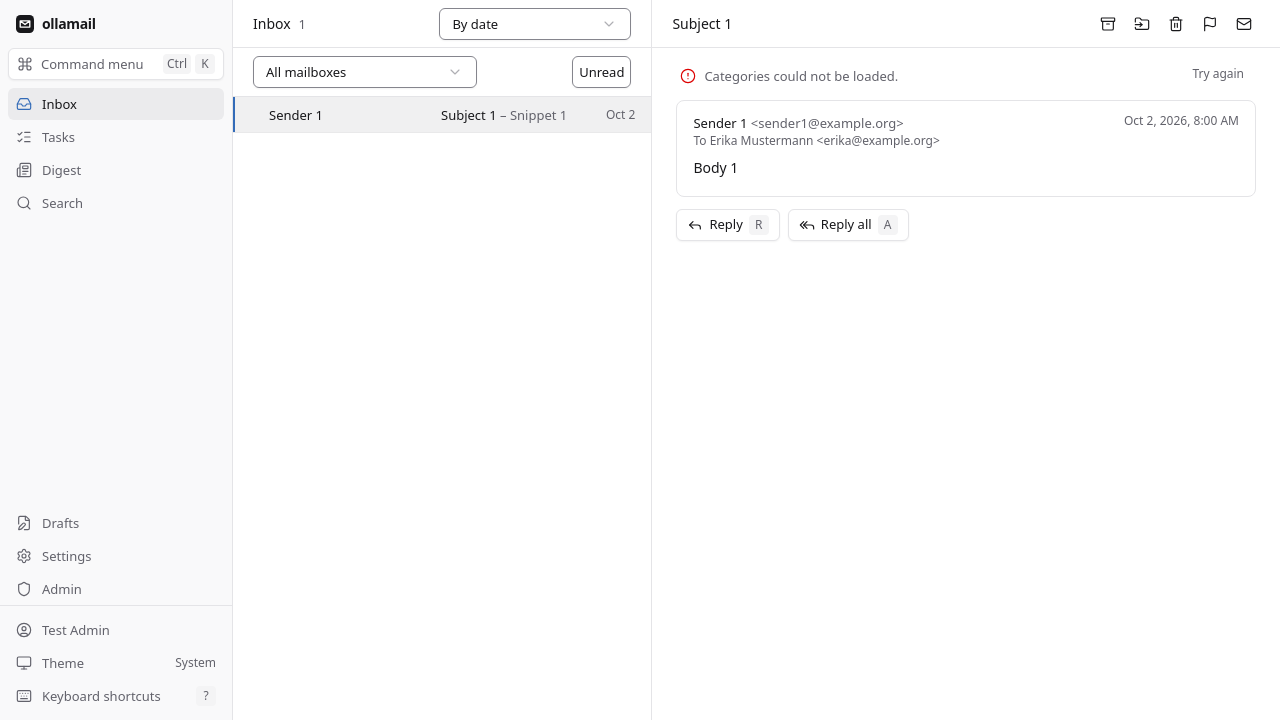
Test: triage in the inbox › loads failing categories a limited number of times and offers a retry (#86)
Check: the heading "Inbox" is shown, box [253,14,291,34]
Check: the text "Subject 1" is shown, box [441,106,497,124]
Click the button "Try again".
click(1218, 74)  # box [1184,62,1252,86]
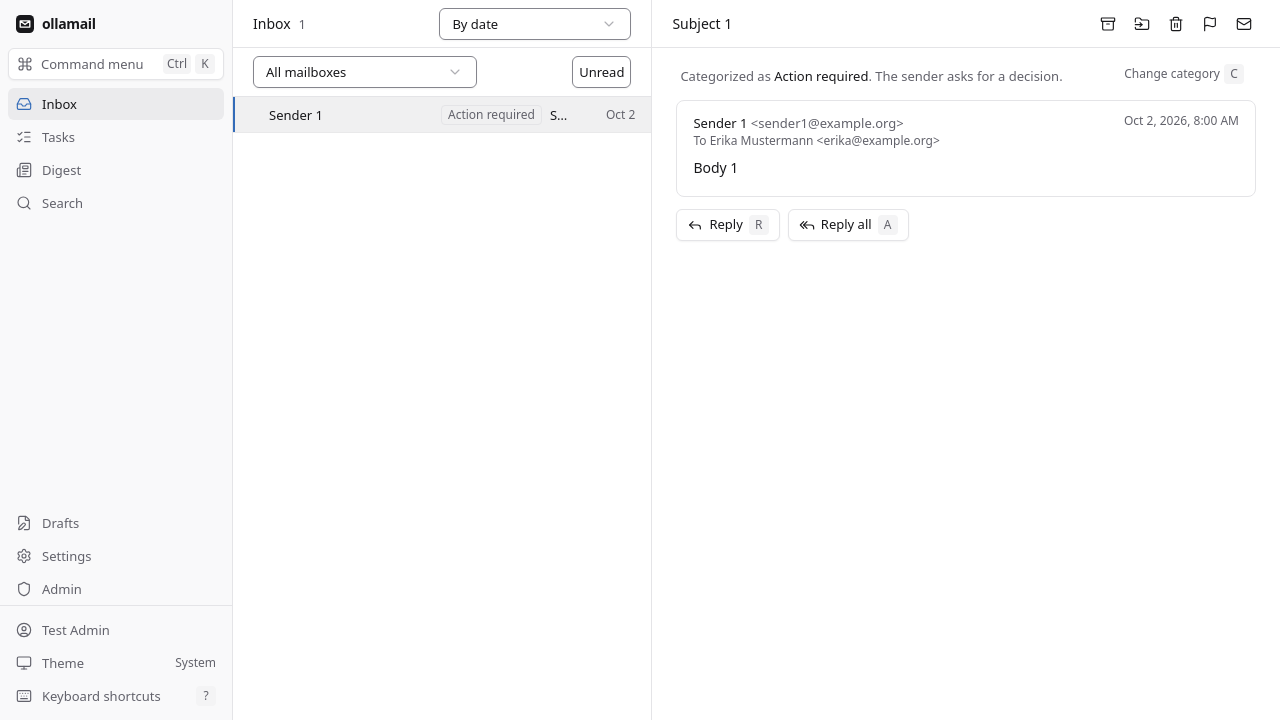
Check: the element with test id "triage-reason" shows "Categorized as Action required. The sender asks for a decision.", box [676,64,1256,88]
